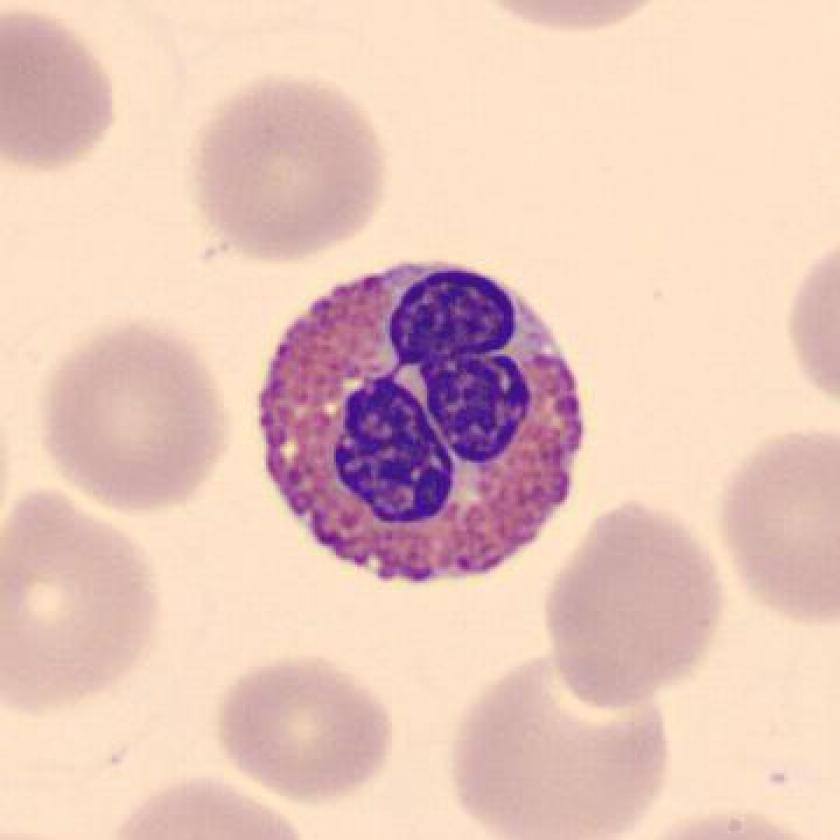eosinophil: (249, 249, 599, 594)
